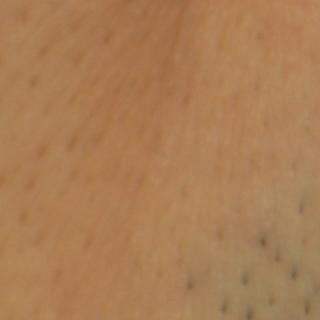Pores: (36, 140, 55, 163), (20, 176, 39, 197), (179, 91, 194, 116), (99, 24, 114, 48), (235, 14, 255, 32), (24, 74, 44, 92), (64, 135, 81, 155), (293, 199, 310, 218), (73, 52, 89, 72), (301, 296, 317, 316), (91, 128, 109, 145), (255, 118, 273, 135), (66, 167, 83, 185), (211, 227, 227, 246), (50, 265, 65, 285), (81, 236, 98, 252), (83, 173, 99, 190), (40, 103, 55, 121), (37, 46, 53, 62), (66, 92, 83, 107), (183, 275, 197, 293), (152, 264, 165, 283), (29, 305, 45, 320), (16, 9, 32, 24), (86, 109, 102, 124), (254, 233, 268, 250), (19, 206, 32, 224), (14, 105, 32, 118), (287, 268, 302, 283), (270, 248, 282, 266), (216, 298, 231, 312), (68, 19, 83, 33), (214, 35, 230, 48), (235, 131, 247, 148), (87, 192, 101, 206), (238, 272, 252, 286), (264, 295, 278, 309), (8, 130, 21, 145), (297, 233, 310, 248), (37, 232, 50, 246), (243, 308, 255, 320), (283, 319, 296, 320)
